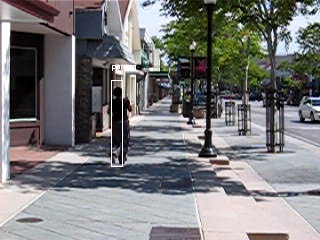person: (108, 87, 133, 165), (107, 87, 132, 165), (109, 87, 134, 165), (108, 86, 133, 164), (108, 88, 133, 166)
target_negative: (250, 53, 275, 228), (86, 126, 303, 139), (145, 208, 188, 234), (272, 42, 317, 51), (231, 76, 269, 86), (287, 121, 291, 129)
